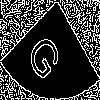G: (25, 25, 68, 85)
